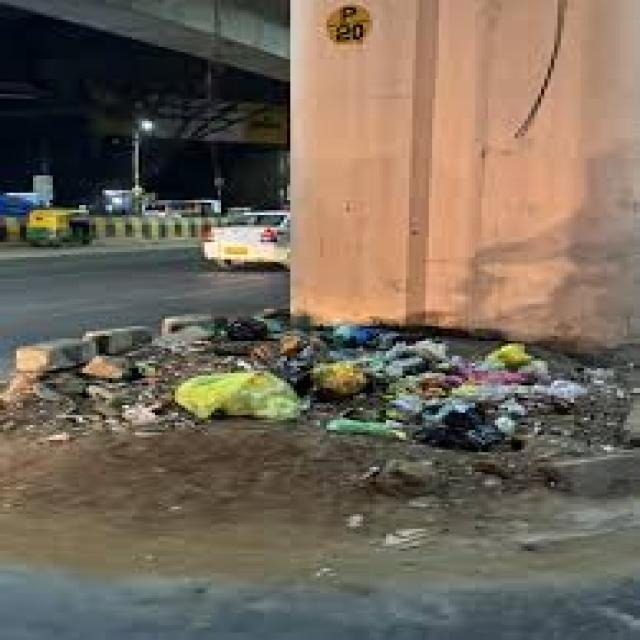garbage: (24, 300, 611, 462)
